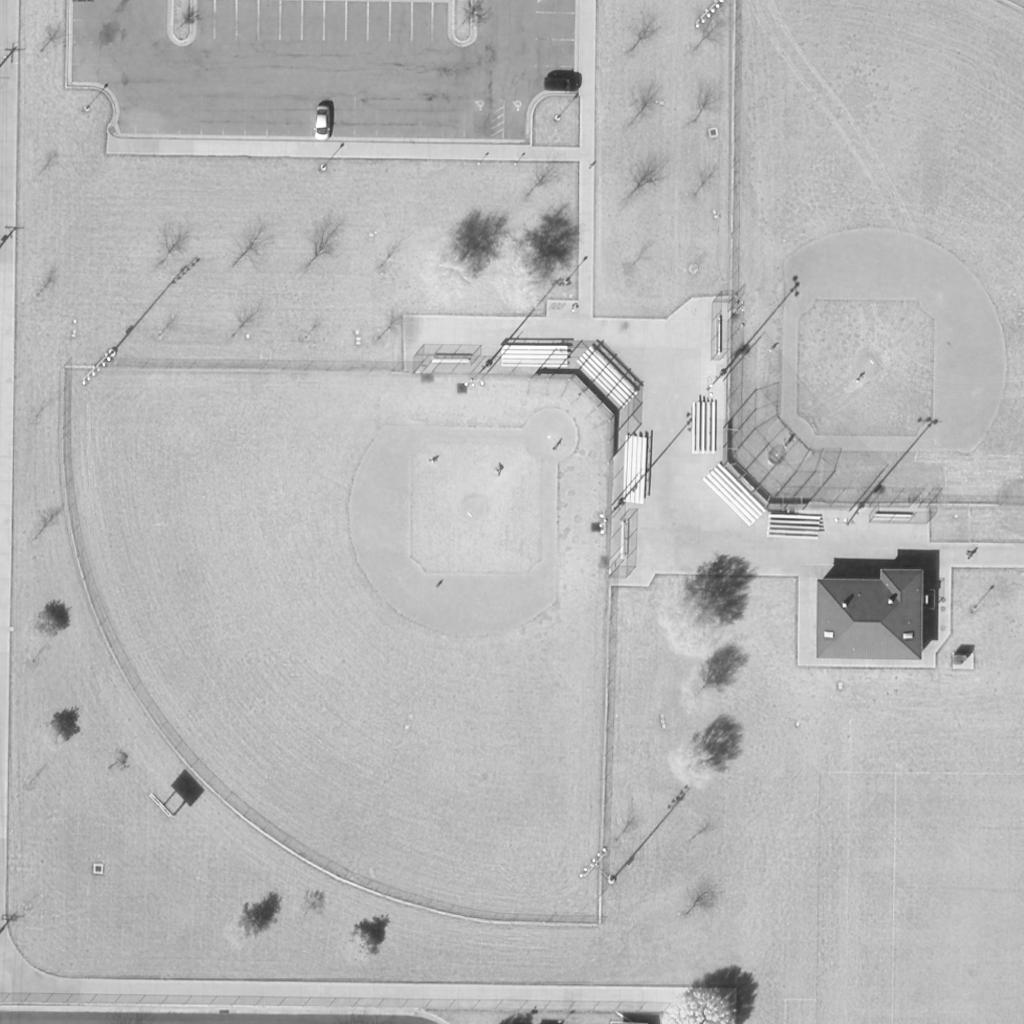vehicle: (314, 105, 332, 143), (542, 76, 580, 92)
